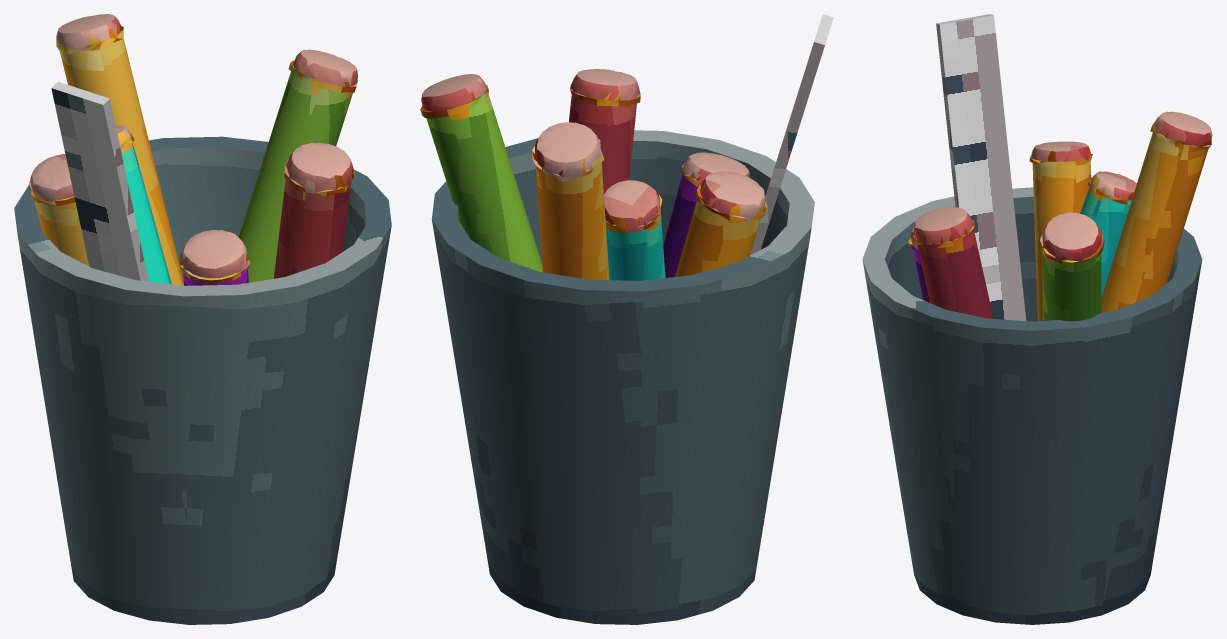
The model's file is pencil_case.glb.
The picture shows the model from 3 angles, left to right: view 1: azimuth 30°, elevation 25°; view 2: azimuth 150°, elevation 25°; view 3: azimuth 270°, elevation 25°; orthographic projection. The views are drawn at different scales.
Visible parts, largest first — view 1: mesh; view 2: mesh; view 3: mesh.
Boxes of the visible parts, bbox=[...] form: mesh: bbox=[14, 14, 391, 624]; mesh: bbox=[420, 14, 833, 624]; mesh: bbox=[862, 14, 1212, 624].
Bounding box in the file's own units: 0.0335 × 0.05 × 0.0326.
Materials: 1 (1 with a texture image).
